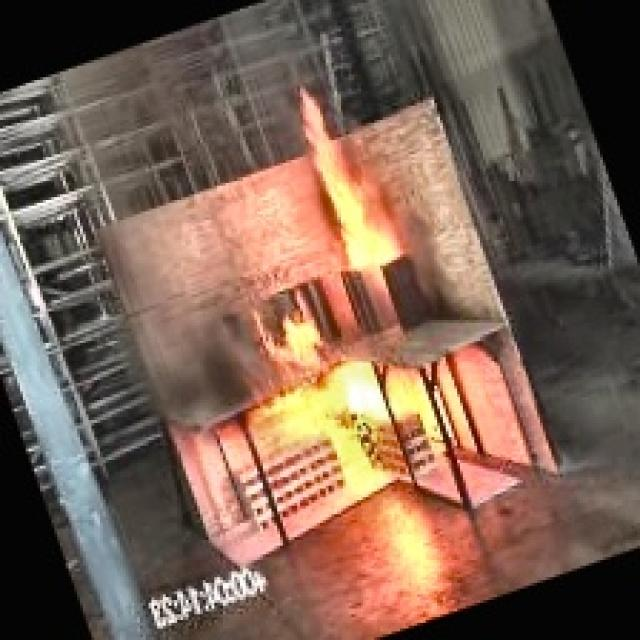fire: (236, 287, 458, 513), (251, 57, 440, 314)
